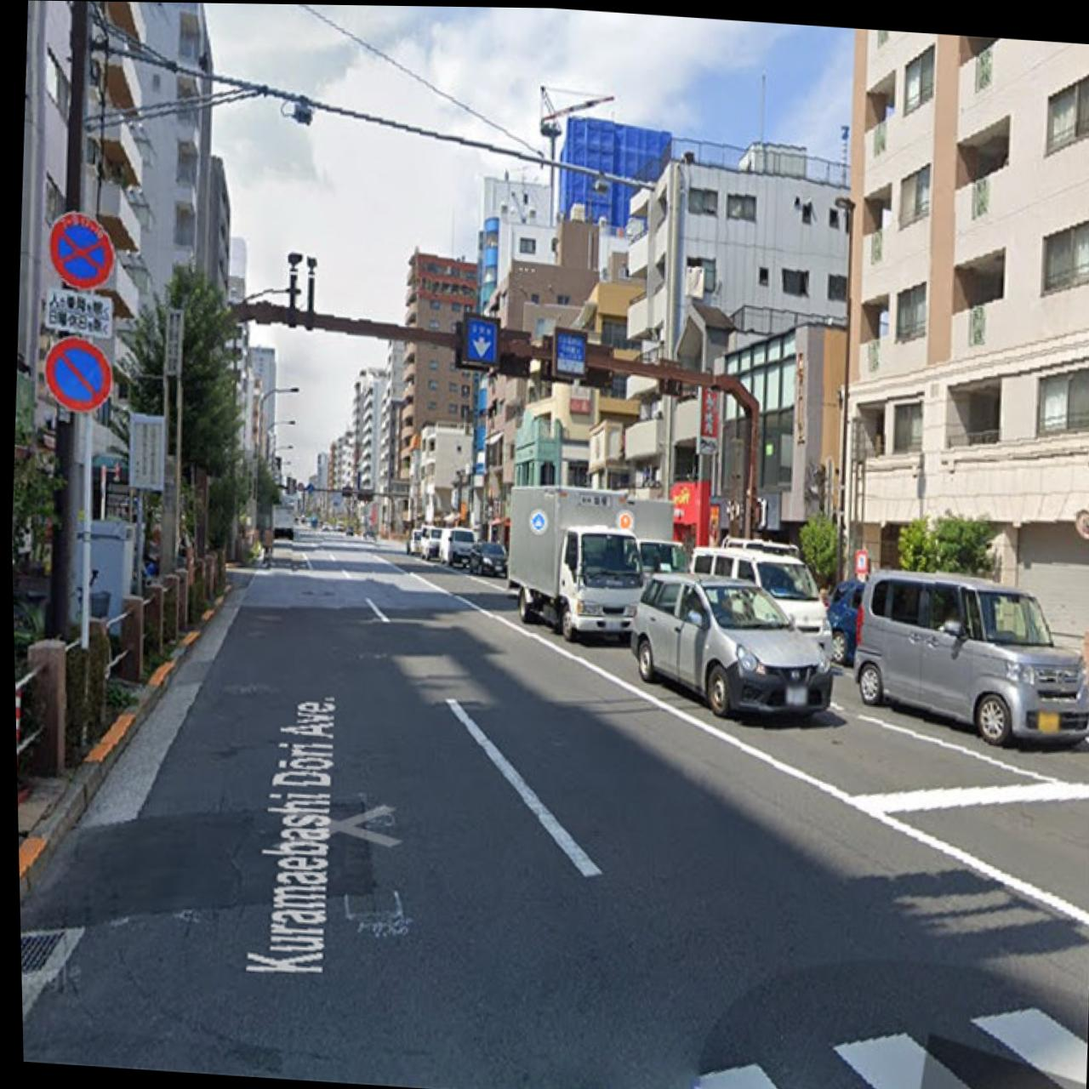stop_sign: (40, 208, 121, 295)
